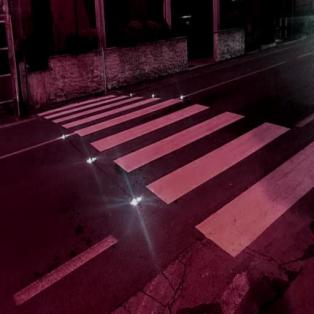Paso de Cebra: (78, 100, 254, 174)
